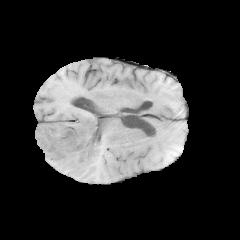glioma: (35, 112, 102, 171)
